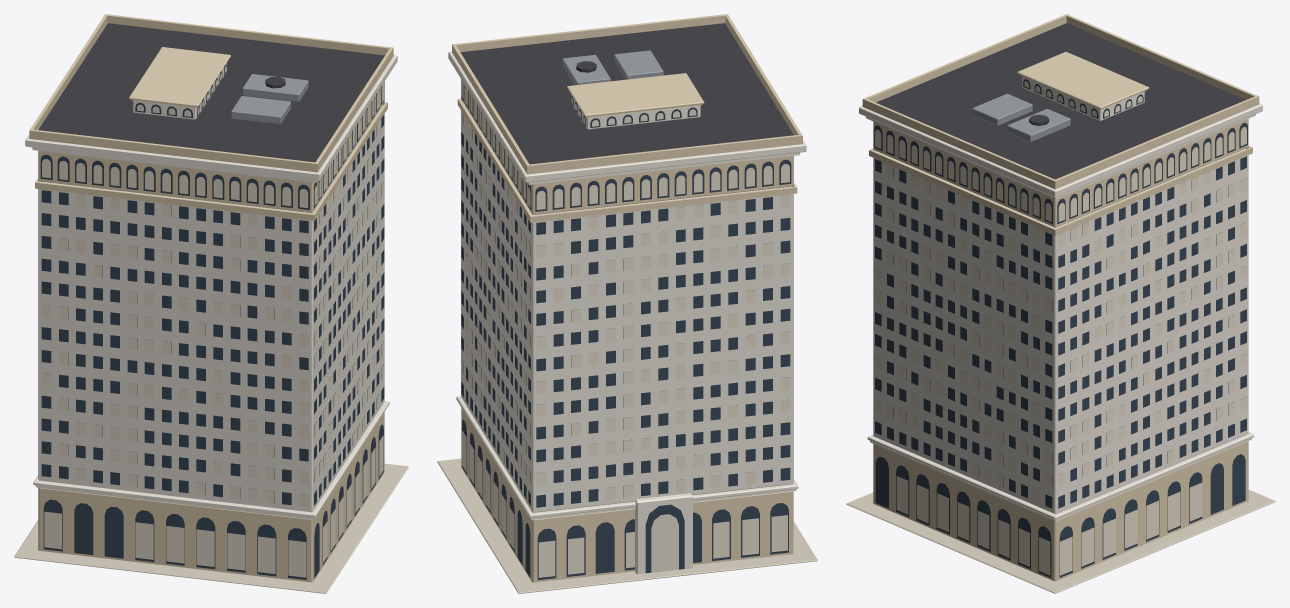
Rendered from matson-building.glb.
The picture shows the model from 3 angles, left to right: view 1: azimuth 30°, elevation 25°; view 2: azimuth 150°, elevation 25°; view 3: azimuth 270°, elevation 25°; orthographic projection. The views are drawn at different scales.
Visible parts, largest first — view 1: matson-building_body, matson-building_night_glow; view 2: matson-building_body, matson-building_night_glow; view 3: matson-building_body, matson-building_night_glow.
Boxes of the visible parts, bbox=[...] form: matson-building_body: bbox=[14, 14, 408, 593]; matson-building_night_glow: bbox=[41, 66, 384, 577]; matson-building_body: bbox=[437, 14, 817, 593]; matson-building_night_glow: bbox=[461, 80, 790, 577]; matson-building_body: bbox=[846, 14, 1275, 593]; matson-building_night_glow: bbox=[874, 81, 1247, 575].
Size of the model in its own units: 68.44 by 73 by 68.46.
